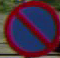No waiting: (4, 4, 54, 52)
